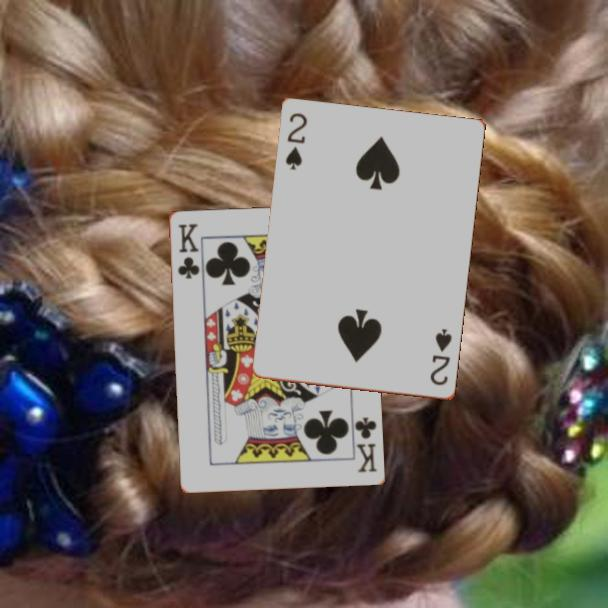c13: (351, 413, 379, 475), (174, 220, 202, 281)
s02: (282, 110, 311, 173), (427, 325, 455, 389)
